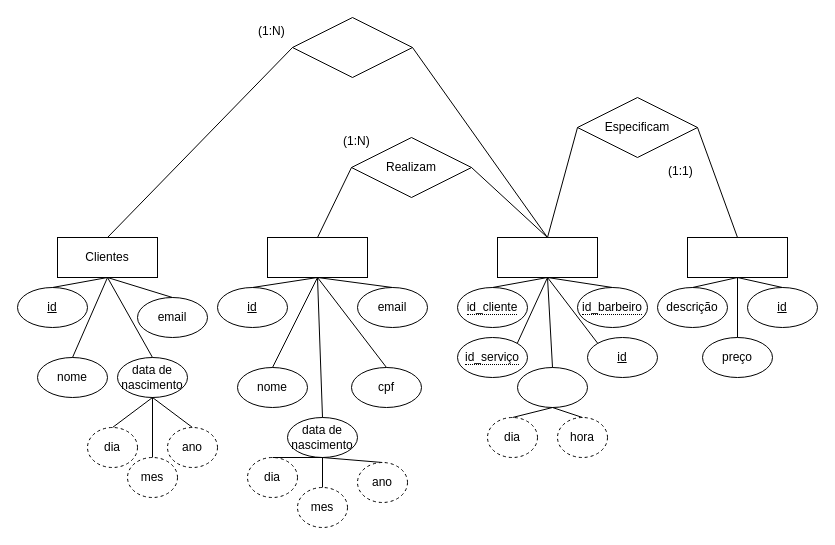
This 835x545 diagram has some shape labels left out. Here are the shapes that lost their labels. From the top down, the centre of each, then its label:
At pixel 352 47: "Agendam".
At pixel 317 257: "Barbeiros".
At pixel 547 257: "Atendimento".
At pixel 737 257: "Serviços".
At pixel 552 387: "data".
